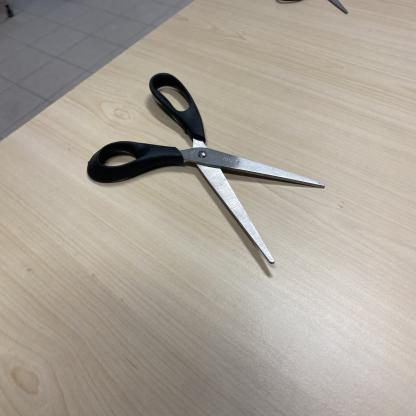scissors: (86, 69, 328, 268), (272, 0, 351, 21)
